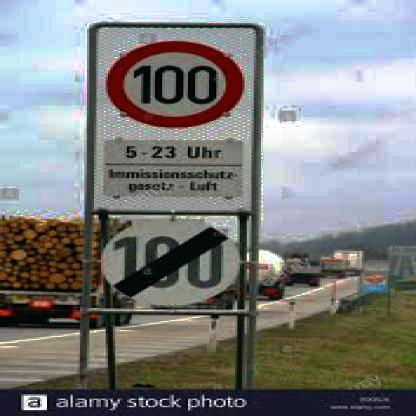Speed Limit -100-: (107, 36, 254, 137)
